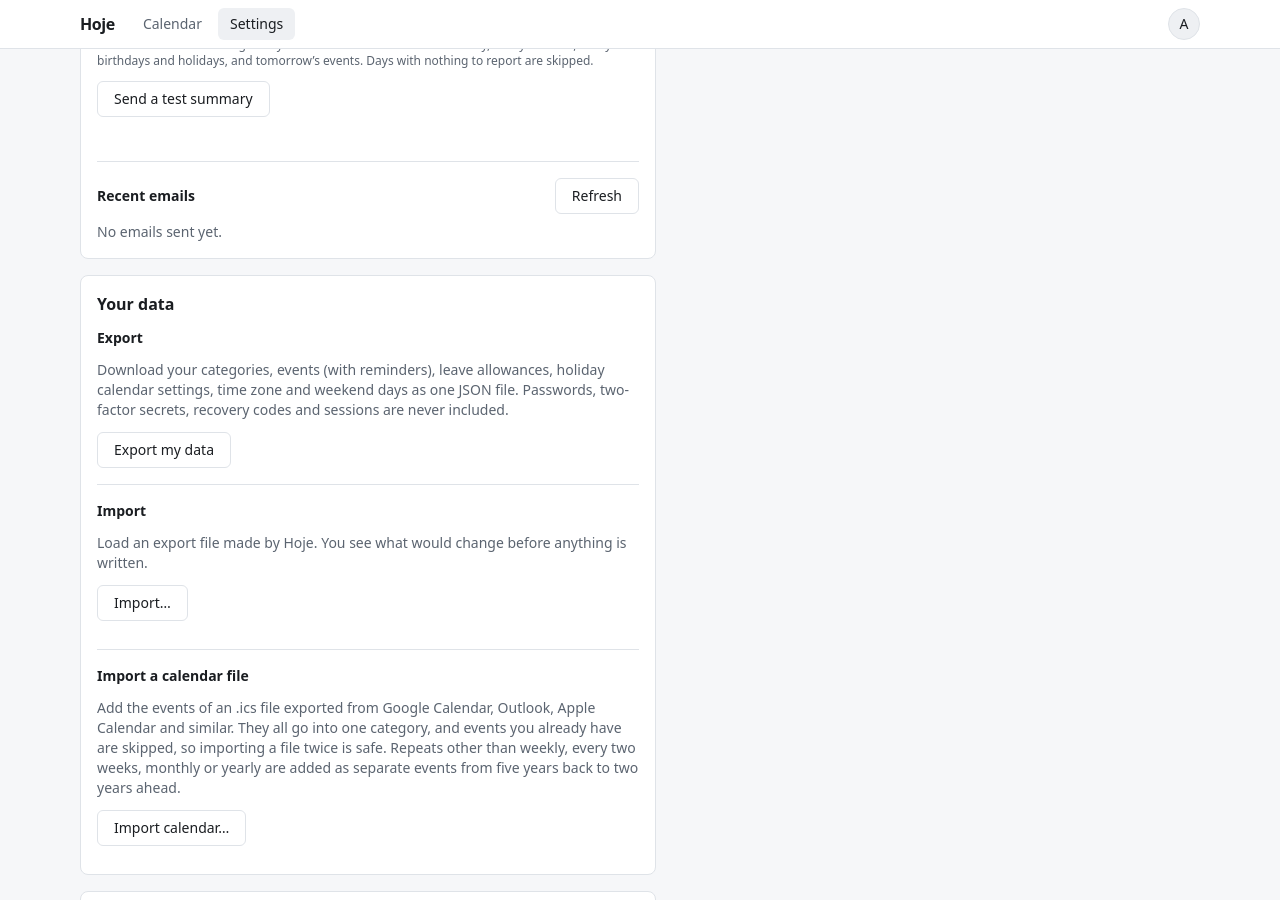
Test: export › shows an alert when the export fails
(page scrolled)
Click the button "Export my data" at (164, 450), box [97,432,231,468]
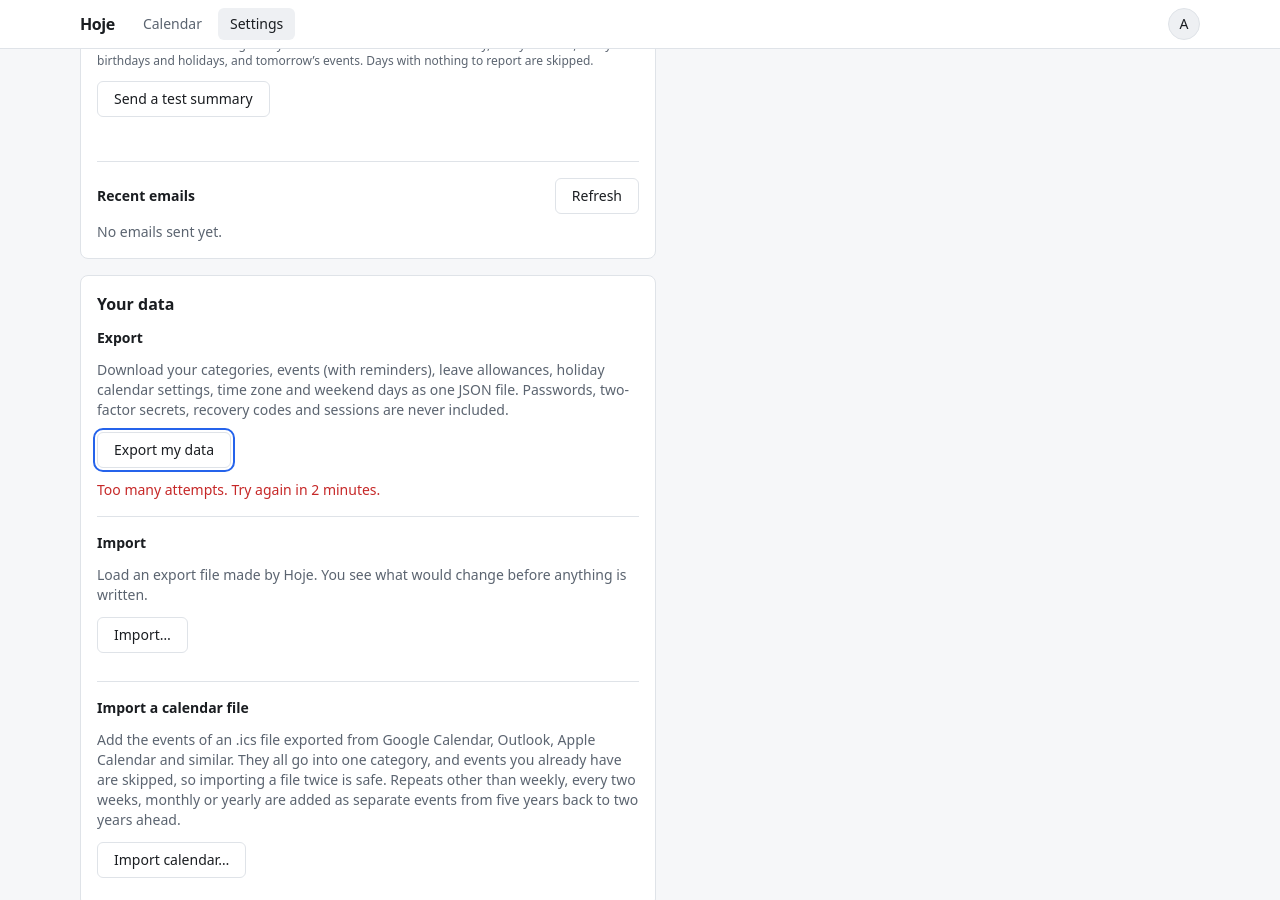
Expected: the text "Too many attempts. Try again in 2 minutes." is shown, [97,480,380,499]
